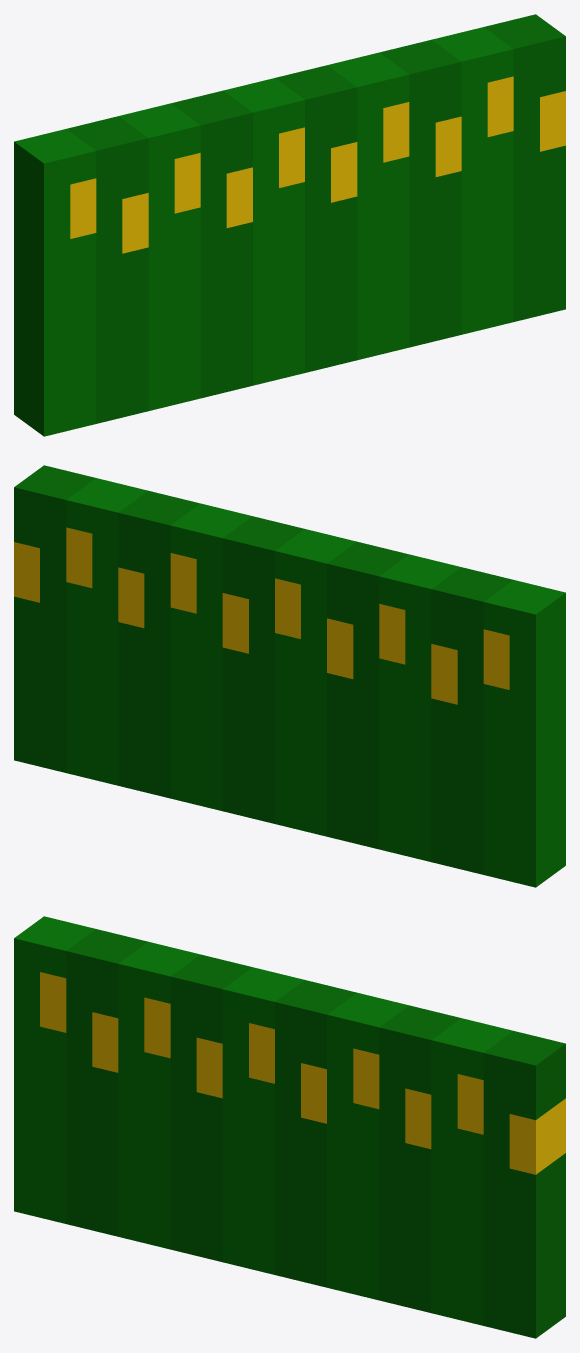
Rendered from GreenWall-1.obj.
3 renders of one model, top to bottom at view 1: azimuth 30°, elevation 25°; view 2: azimuth 150°, elevation 25°; view 3: azimuth 330°, elevation 25°, orthographic.
Visible parts, largest first — view 1: GreenWall-1; view 2: GreenWall-1; view 3: GreenWall-1.
Part boxes in pixels (bbox=[...]): GreenWall-1: bbox=[14, 14, 565, 436]; GreenWall-1: bbox=[14, 465, 565, 887]; GreenWall-1: bbox=[14, 916, 565, 1338].
Size of the model in its own units: 20 by 10 by 2.
Materials: 1 (1 with a texture image).
